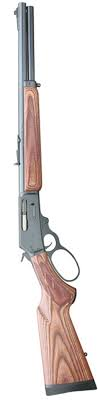gun: (11, 1, 98, 397)
